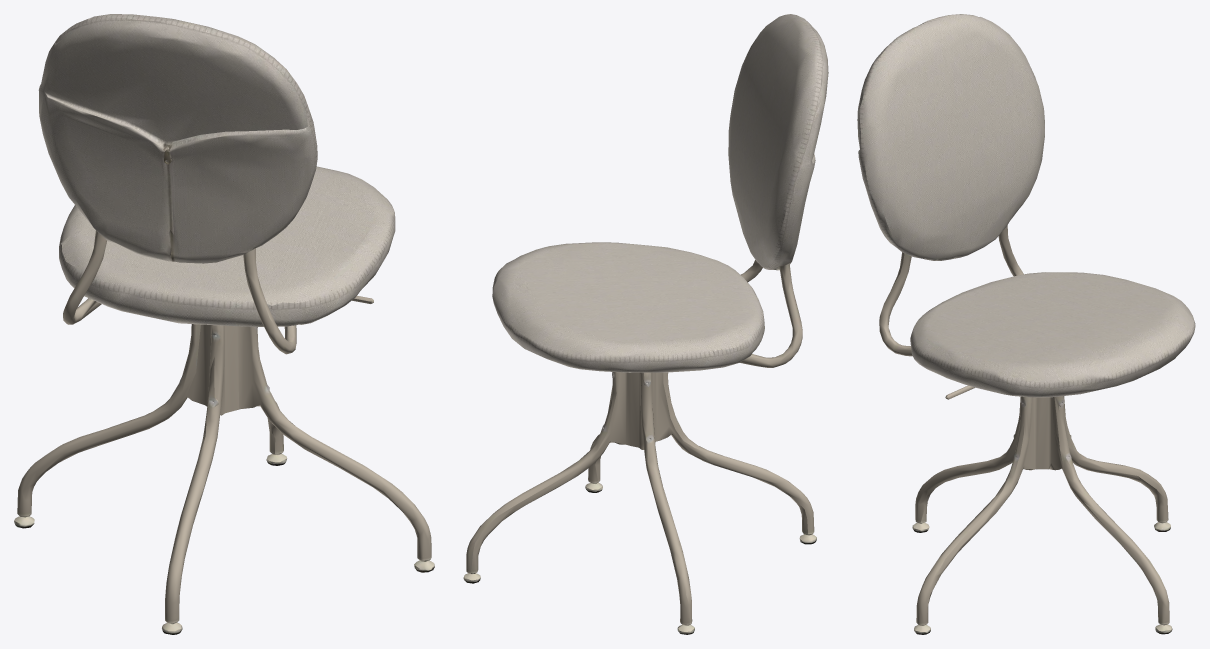
3 renders of one model, left to right at view 1: azimuth 30°, elevation 25°; view 2: azimuth 150°, elevation 25°; view 3: azimuth 270°, elevation 25°, orthographic. The views are drawn at different scales.
Parts seen in each view (by area): view 1: ProcessedMeshNode; view 2: ProcessedMeshNode; view 3: ProcessedMeshNode.
Boxes of the visible parts, x1,y1,x2,y2 form: ProcessedMeshNode: (14,14,434,634); ProcessedMeshNode: (463,14,828,634); ProcessedMeshNode: (857,14,1195,634).
Bounding box in the file's own units: 0.5347 × 0.8871 × 0.5385.
2 materials, 2 textured.
